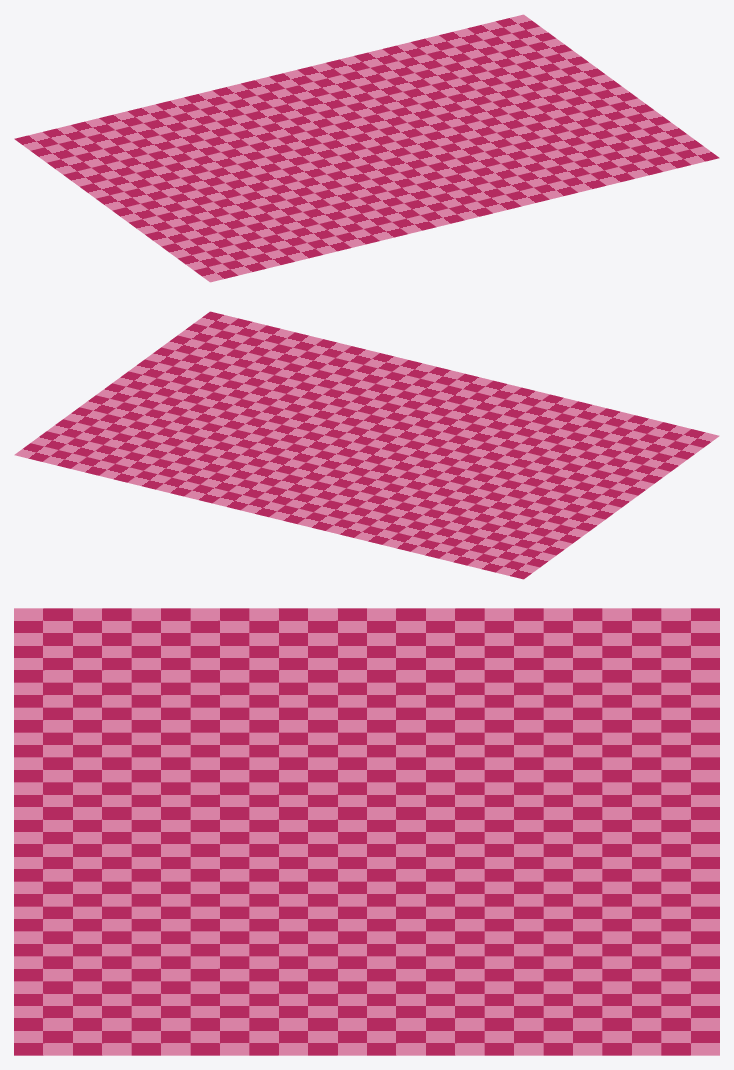
File: tablero.glb
The picture shows the model from 3 angles, top to bottom: view 1: azimuth 30°, elevation 25°; view 2: azimuth 150°, elevation 25°; view 3: azimuth 270°, elevation 25°; orthographic projection. The views are drawn at different scales.
Visible parts, largest first — view 1: Plane.001; view 2: Plane.001; view 3: Plane.001.
Part boxes in pixels (box(x1,y1,x2,y2)): Plane.001: box(14, 14, 719, 282); Plane.001: box(14, 311, 719, 579); Plane.001: box(14, 608, 719, 1055).
Bounding box in the file's own units: 36 × 0 × 24.
Materials: 1 (1 with a texture image).
